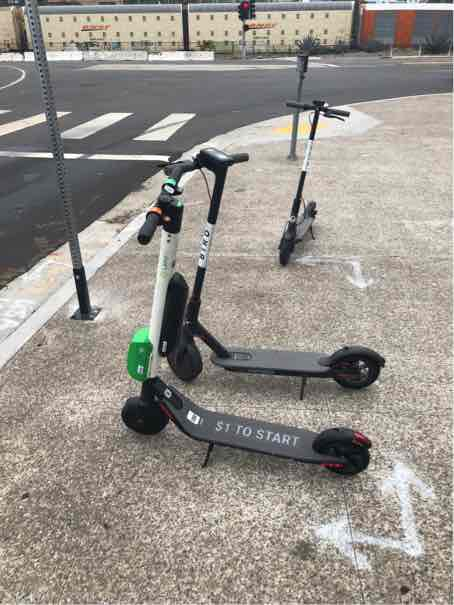scooter: (111, 139, 385, 480)
